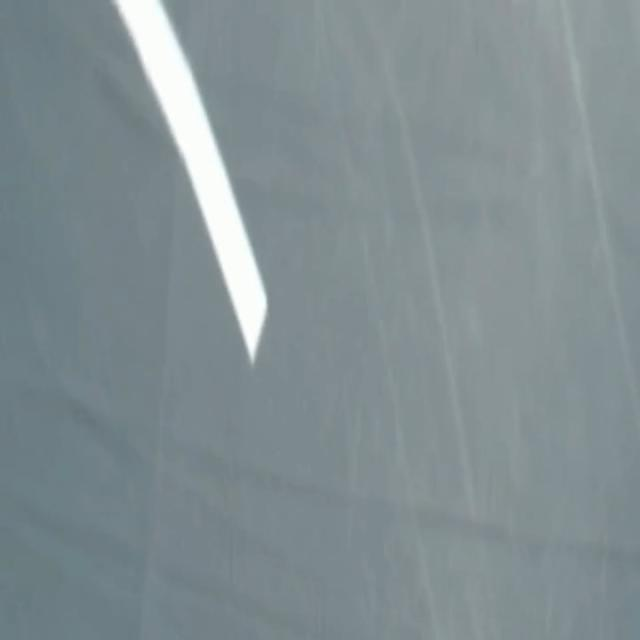center: (115, 0, 267, 364)
